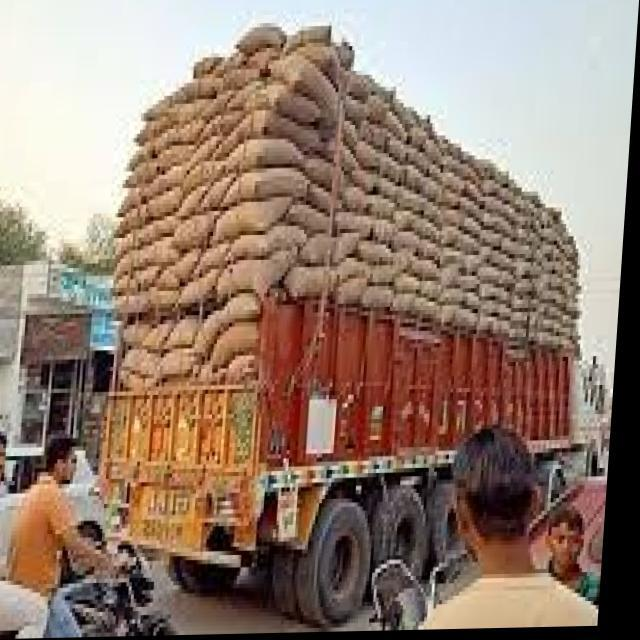uncovered: (98, 30, 626, 620)
